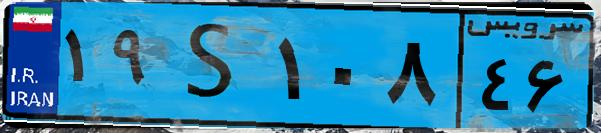0: (330, 28, 385, 110)
1: (270, 28, 330, 110), (57, 26, 110, 100)
4: (475, 38, 525, 113)
6: (525, 38, 570, 115)
8: (385, 28, 445, 110)
9: (110, 28, 158, 98)
S: (158, 12, 270, 120)
